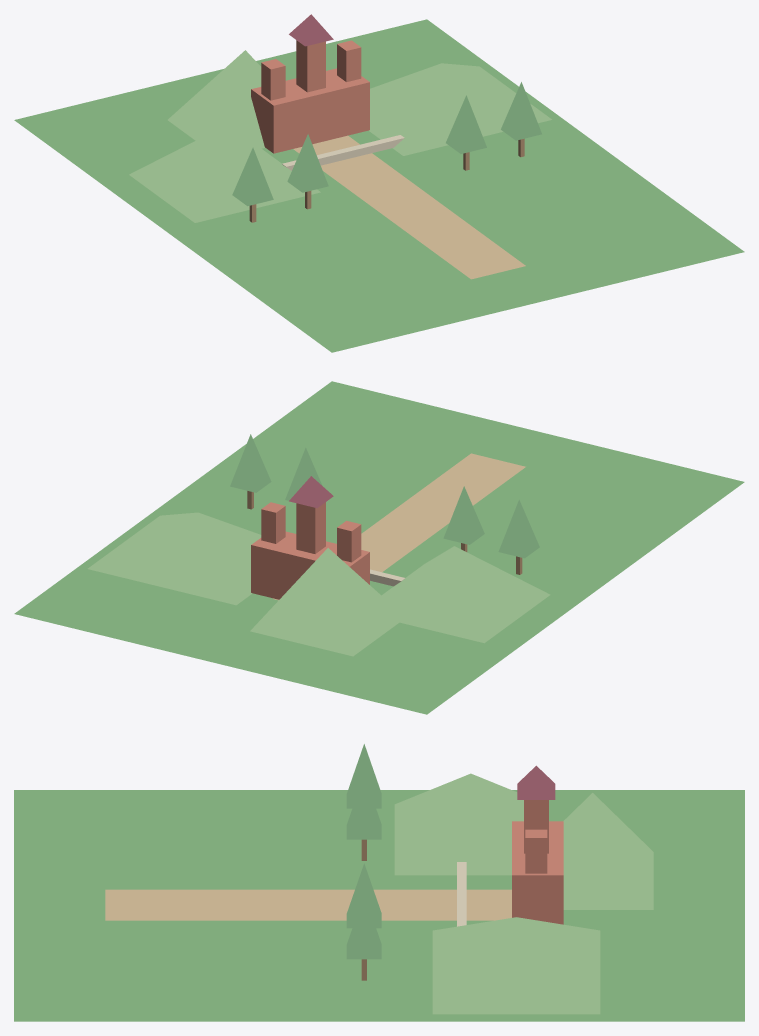
The model's file is paldea_companion_world.gltf.
3 views of the same model, one above another, from view 1: azimuth 30°, elevation 25°; view 2: azimuth 150°, elevation 25°; view 3: azimuth 270°, elevation 25° (orthographic). The views are drawn at different scales.
Parts seen in each view (by area): view 1: Paldea Field, East Paldea Hill, Route to Mesagoza, West Paldea Hill, Mesagoza Academy, Paldea Tree (×4), Distant Paldea Ridge, Academy Central Tower, Mesagoza Wall, Academy Right Tower, Academy Left Tower, Academy Roof; view 2: Paldea Field, East Paldea Hill, West Paldea Hill, Distant Paldea Ridge, Route to Mesagoza, Paldea Tree (×4), Mesagoza Academy, Academy Central Tower, Academy Right Tower, Academy Left Tower, Academy Roof; view 3: Paldea Field, East Paldea Hill, Route to Mesagoza, West Paldea Hill, Distant Paldea Ridge, Paldea Tree (×4), Mesagoza Academy, Academy Right Tower, Academy Roof, Academy Central Tower, Mesagoza Wall.
Part boxes in pixels (left/top/right/bottom): Paldea Field: left=14, top=19, right=744, bottom=352; East Paldea Hill: left=369, top=63, right=551, bottom=155; Route to Mesagoza: left=293, top=135, right=525, bottom=279; West Paldea Hill: left=129, top=126, right=320, bottom=222; Mesagoza Academy: left=251, top=68, right=369, bottom=153; Paldea Tree (×4): left=232, top=82, right=541, bottom=206; Distant Paldea Ridge: left=168, top=50, right=264, bottom=148; Academy Central Tower: left=296, top=40, right=325, bottom=92; Mesagoza Wall: left=282, top=135, right=404, bottom=170; Academy Right Tower: left=337, top=40, right=361, bottom=82; Academy Left Tower: left=261, top=59, right=285, bottom=100; Academy Roof: left=289, top=14, right=333, bottom=46; Paldea Field: left=14, top=381, right=744, bottom=714; East Paldea Hill: left=87, top=512, right=261, bottom=605; West Paldea Hill: left=381, top=546, right=550, bottom=643; Distant Paldea Ridge: left=250, top=548, right=399, bottom=656; Route to Mesagoza: left=273, top=453, right=525, bottom=600; Paldea Tree (×4): left=230, top=434, right=539, bottom=558; Mesagoza Academy: left=251, top=531, right=369, bottom=599; Academy Central Tower: left=296, top=502, right=325, bottom=553; Academy Right Tower: left=261, top=502, right=285, bottom=543; Academy Left Tower: left=337, top=520, right=361, bottom=562; Academy Roof: left=289, top=476, right=333, bottom=508; Paldea Field: left=14, top=790, right=744, bottom=1021; East Paldea Hill: left=432, top=917, right=600, bottom=1014; Route to Mesagoza: left=105, top=889, right=511, bottom=920; West Paldea Hill: left=394, top=773, right=523, bottom=875; Distant Paldea Ridge: left=563, top=793, right=653, bottom=909; Paldea Tree (×4): left=346, top=744, right=381, bottom=959; Mesagoza Academy: left=512, top=821, right=563, bottom=924; Academy Right Tower: left=525, top=829, right=547, bottom=873; Academy Roof: left=517, top=765, right=555, bottom=799; Academy Central Tower: left=524, top=800, right=548, bottom=853; Mesagoza Wall: left=457, top=862, right=466, bottom=926.
Bounding box in the file's own units: 18 × 5.08 × 24.
